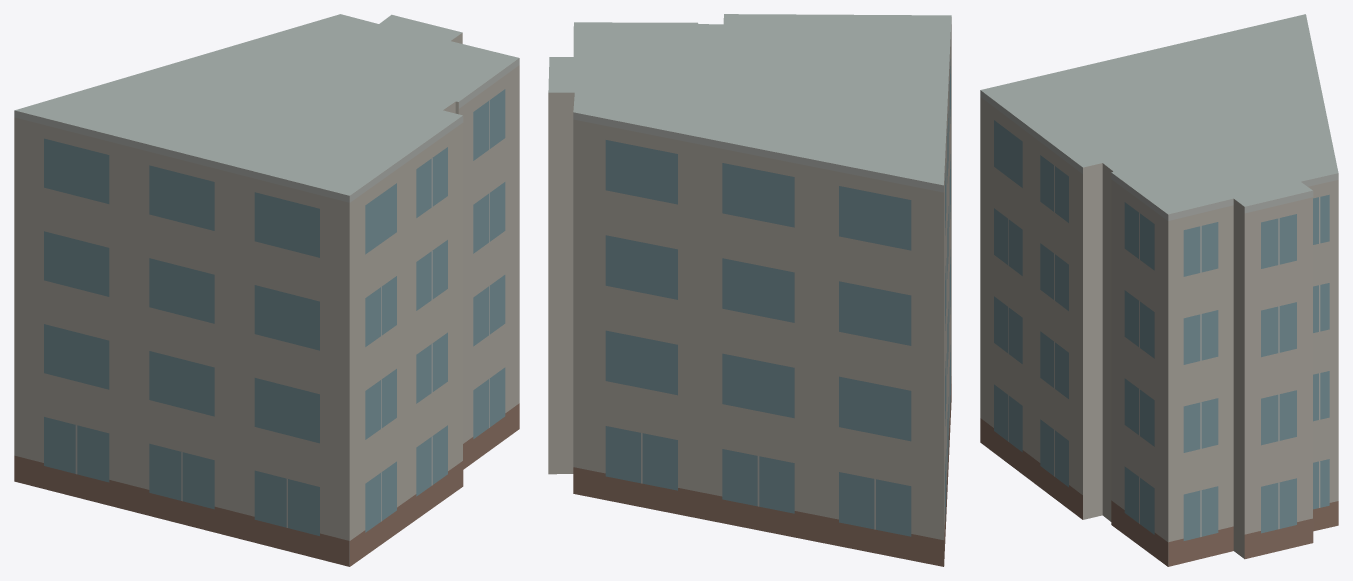
The model's file is survey-upis-32911772.glb.
The picture shows the model from 3 angles, left to right: view 1: azimuth 30°, elevation 25°; view 2: azimuth 150°, elevation 25°; view 3: azimuth 270°, elevation 25°; orthographic projection. The views are drawn at different scales.
Parts seen in each view (by area): view 1: survey-upis-32911772.tmp; view 2: survey-upis-32911772.tmp; view 3: survey-upis-32911772.tmp.
Part boxes in pixels (x1,y1,x2,y2): survey-upis-32911772.tmp: (14, 14, 519, 566); survey-upis-32911772.tmp: (548, 14, 951, 566); survey-upis-32911772.tmp: (980, 14, 1338, 566).
Size of the model in its own units: 15.75 by 12.9 by 11.9.
